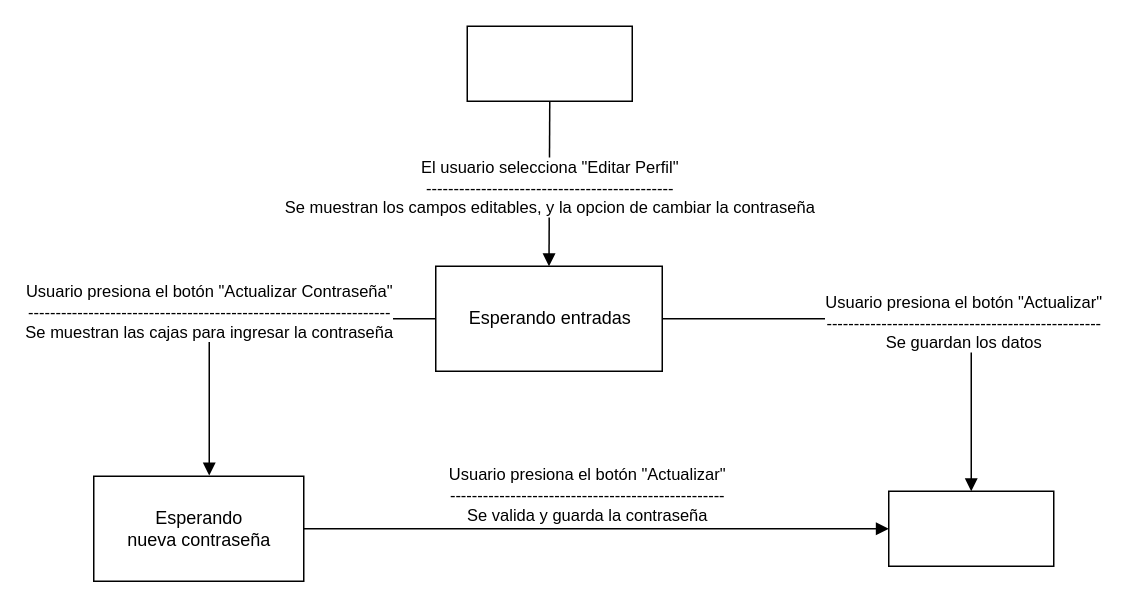
Some shapes in this 1128 by 608 pixel diagram are drawn without their labels. The shapes that lost their labels are listed below. From the top down, each one's centre as x and y in pixels, then its label:
At (x=549, y=63): "Inicio".
At (x=970, y=528): "Fin".
